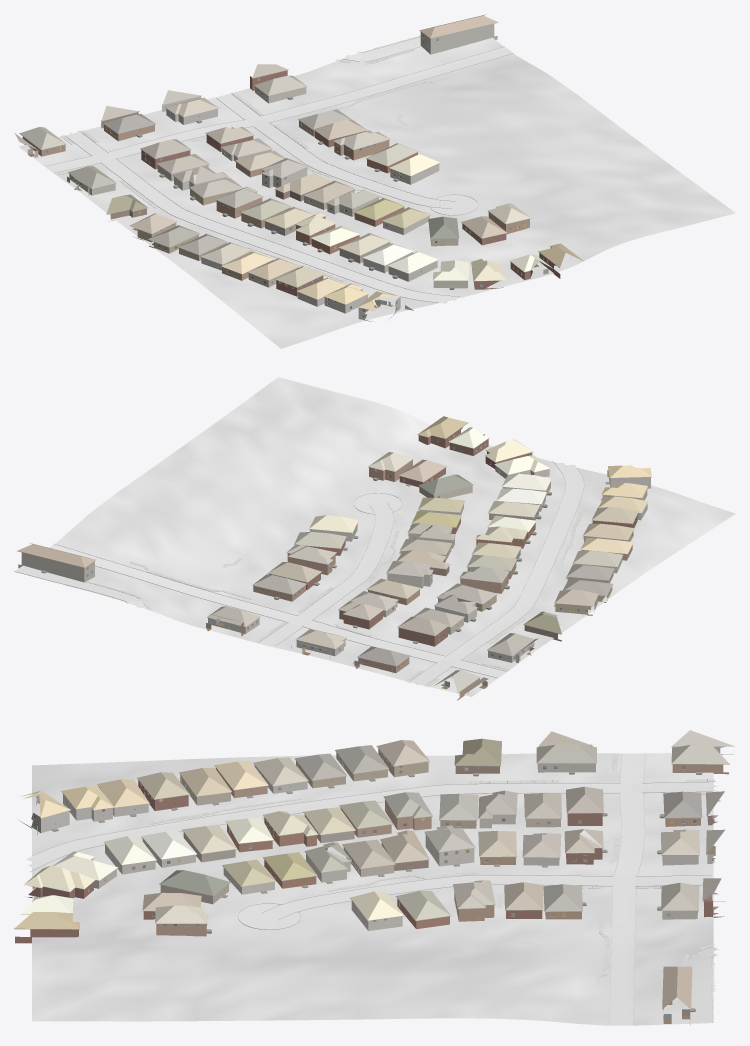
3 renders of one model, top to bottom at view 1: azimuth 30°, elevation 25°; view 2: azimuth 150°, elevation 25°; view 3: azimuth 270°, elevation 25°, orthographic. The views are drawn at different scales.
Visible parts, largest first — view 1: ground, roof, concrete, wall, wall_stucco, detail, curb, wall_stone, walk; view 2: ground, roof, concrete, wall, wall_stucco, detail, curb, walk, wall_stone; view 3: ground, roof, concrete, wall, wall_stucco, detail, curb, wall_stone, walk, glass.
Boxes of the visible parts, x1,y1,x2,y2 form: ground: (19, 37, 735, 348); roof: (14, 14, 584, 310); concrete: (46, 37, 512, 303); wall: (22, 70, 560, 296); wall_stucco: (34, 24, 497, 288); detail: (19, 22, 572, 318); curb: (46, 36, 513, 302); wall_stone: (88, 96, 412, 321); walk: (56, 35, 446, 281); ground: (14, 377, 735, 696); roof: (17, 416, 651, 694); concrete: (15, 462, 583, 685); wall: (241, 427, 637, 700); wall_stucco: (18, 466, 550, 662); detail: (17, 423, 651, 693); curb: (14, 461, 584, 686); walk: (65, 512, 583, 686); wall_stone: (296, 473, 650, 662); ground: (32, 753, 713, 1025); roof: (14, 730, 734, 1009); concrete: (26, 753, 718, 1025); wall: (15, 749, 728, 943); wall_stucco: (91, 746, 733, 1025); detail: (14, 746, 729, 1020); curb: (30, 753, 715, 1025); wall_stone: (19, 744, 715, 867); walk: (148, 753, 715, 991); glass: (33, 751, 714, 926).
Size of the model in its own units: 258 by 21.75 by 265.
